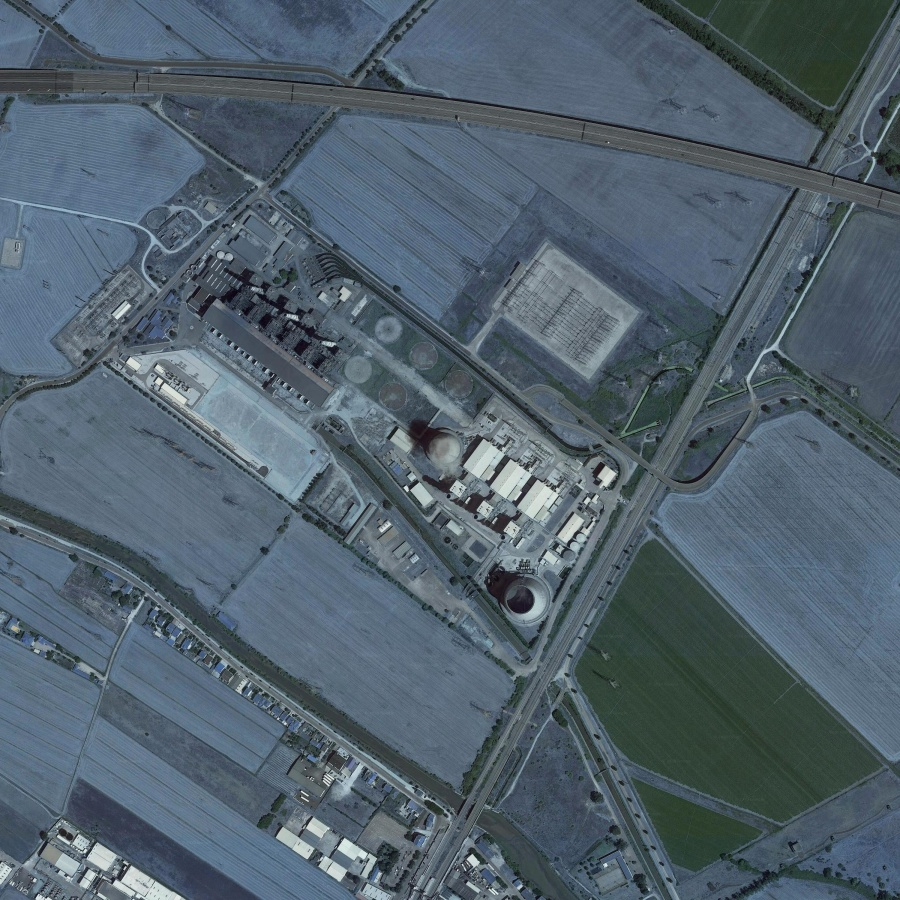PowerPlant: (160, 234, 614, 641)
